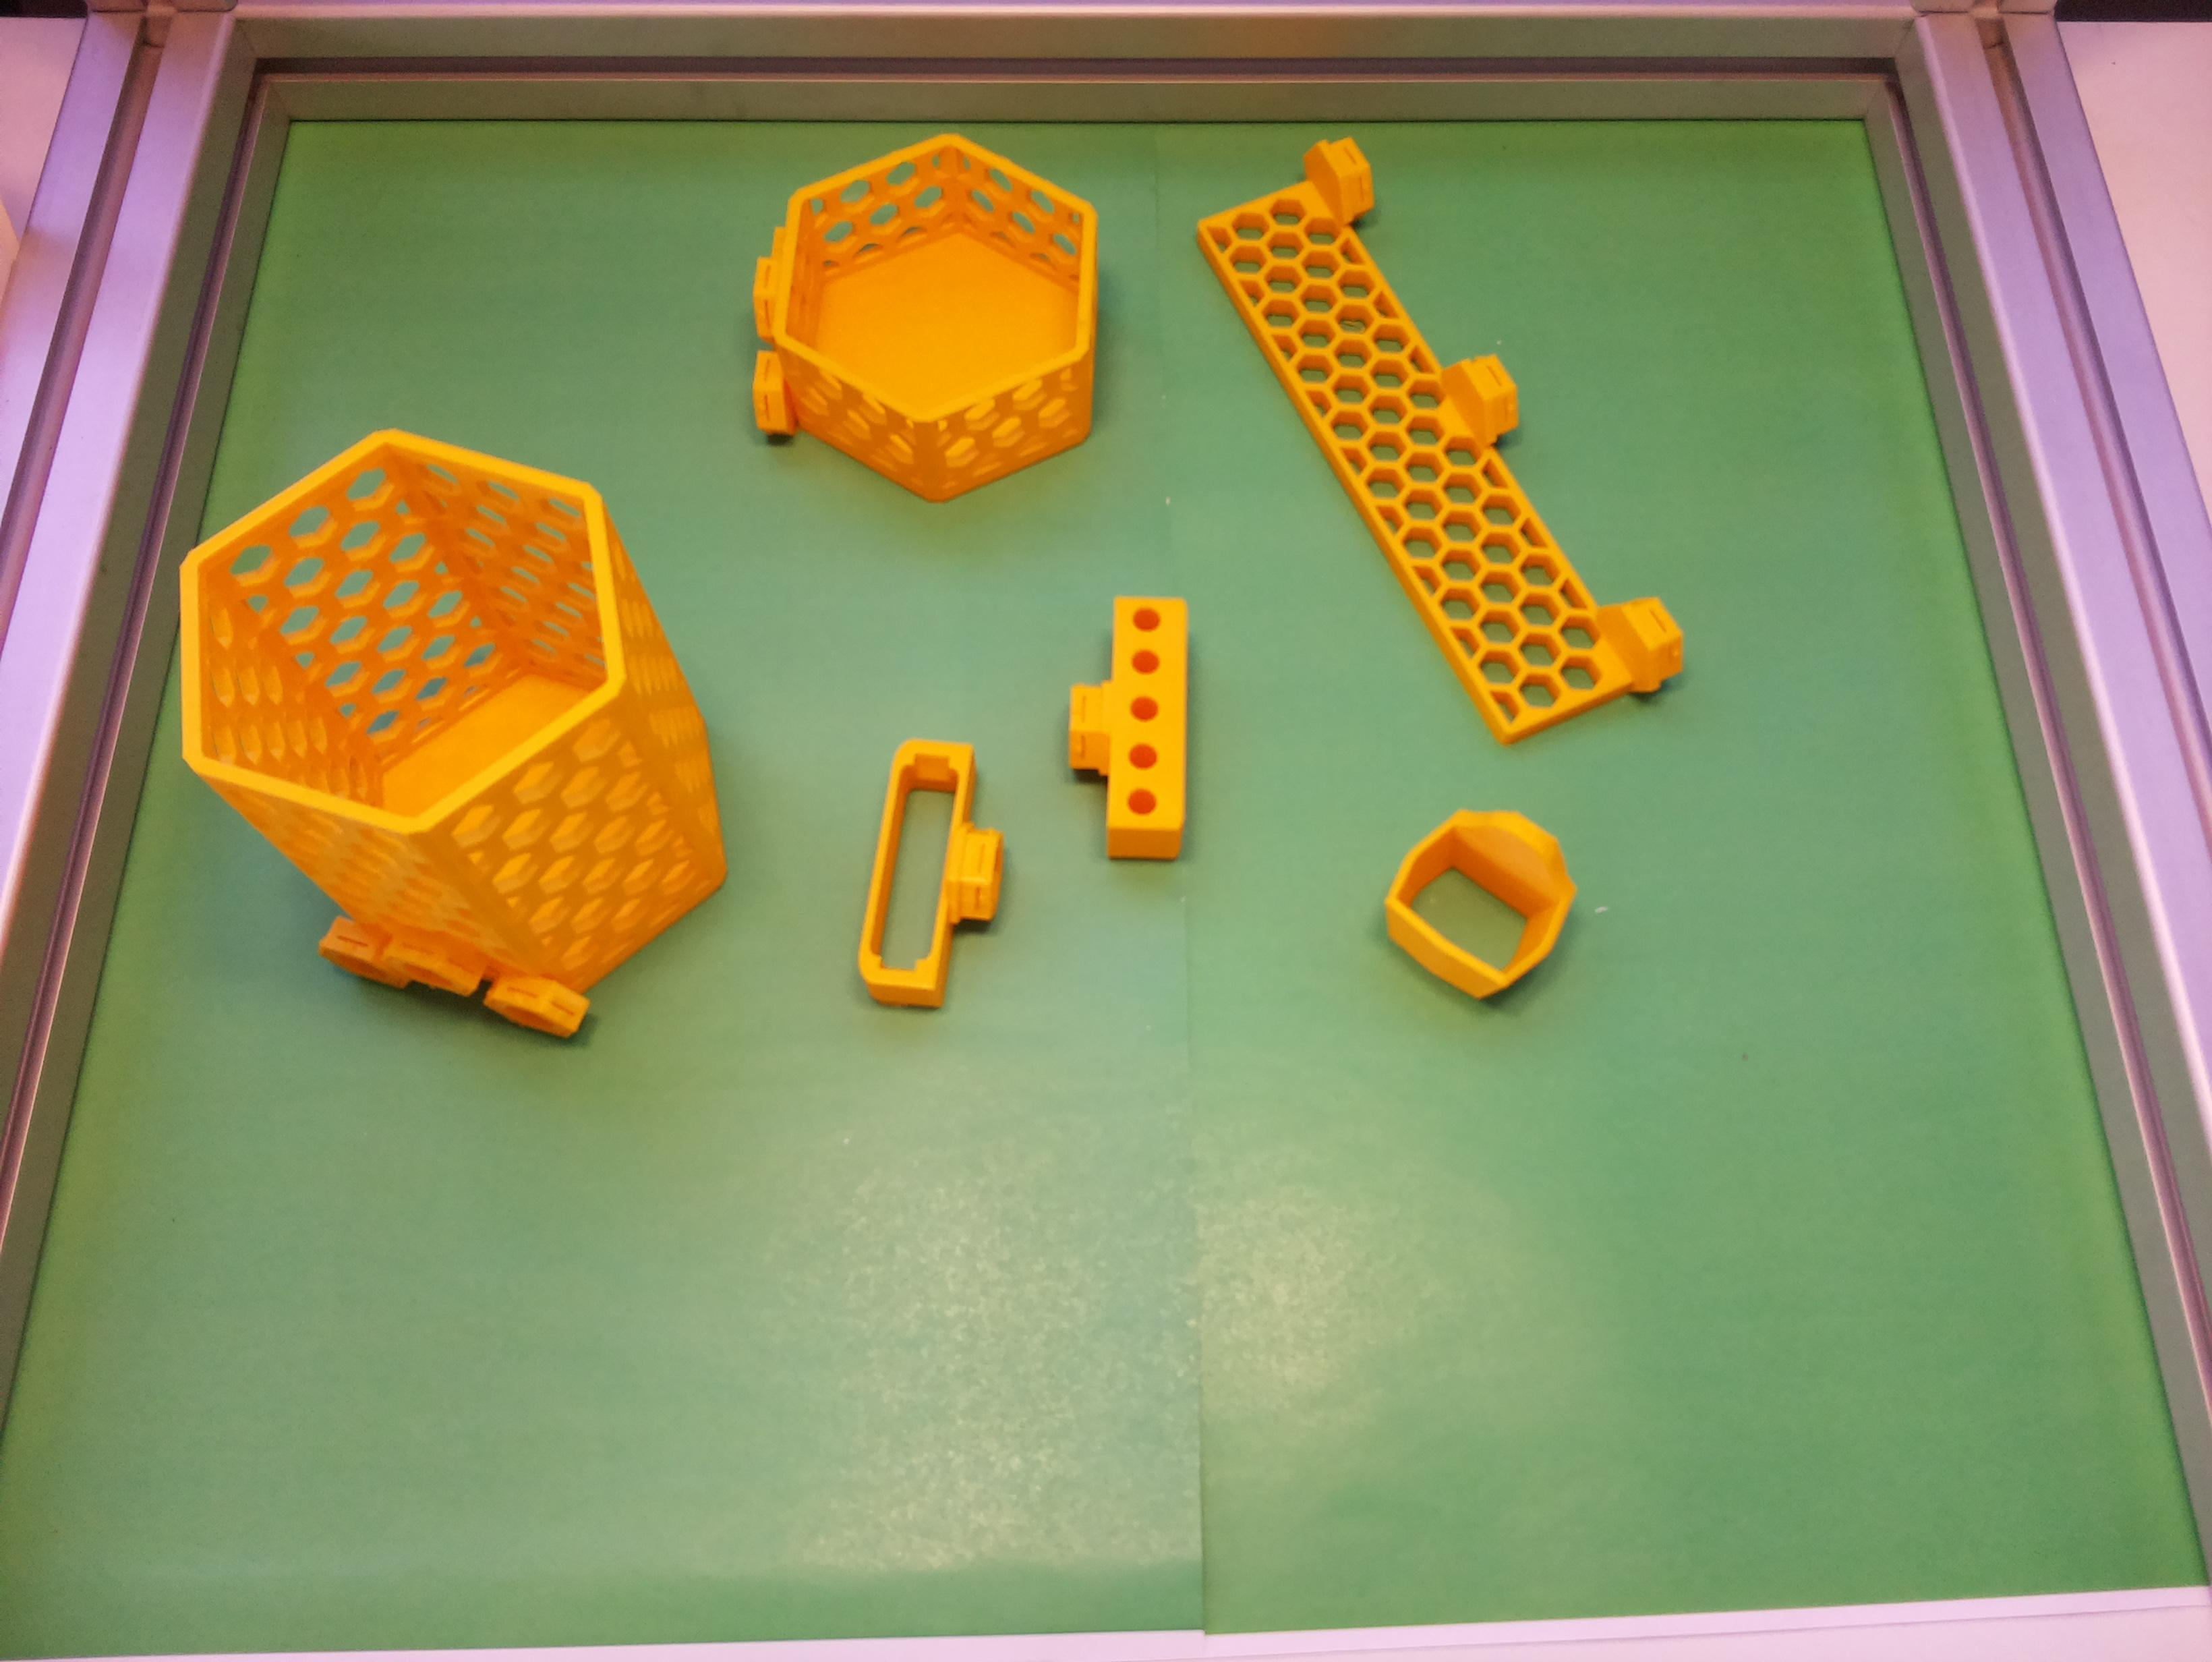bit_holder: (1068, 597, 1189, 859)
bottle_holder: (752, 134, 1096, 501)
cup_holder: (91, 347, 838, 1128)
cutter_holder: (850, 731, 1023, 1020)
scissor_holder: (1360, 775, 1603, 1021)
tool_holder: (1166, 126, 1700, 779)
